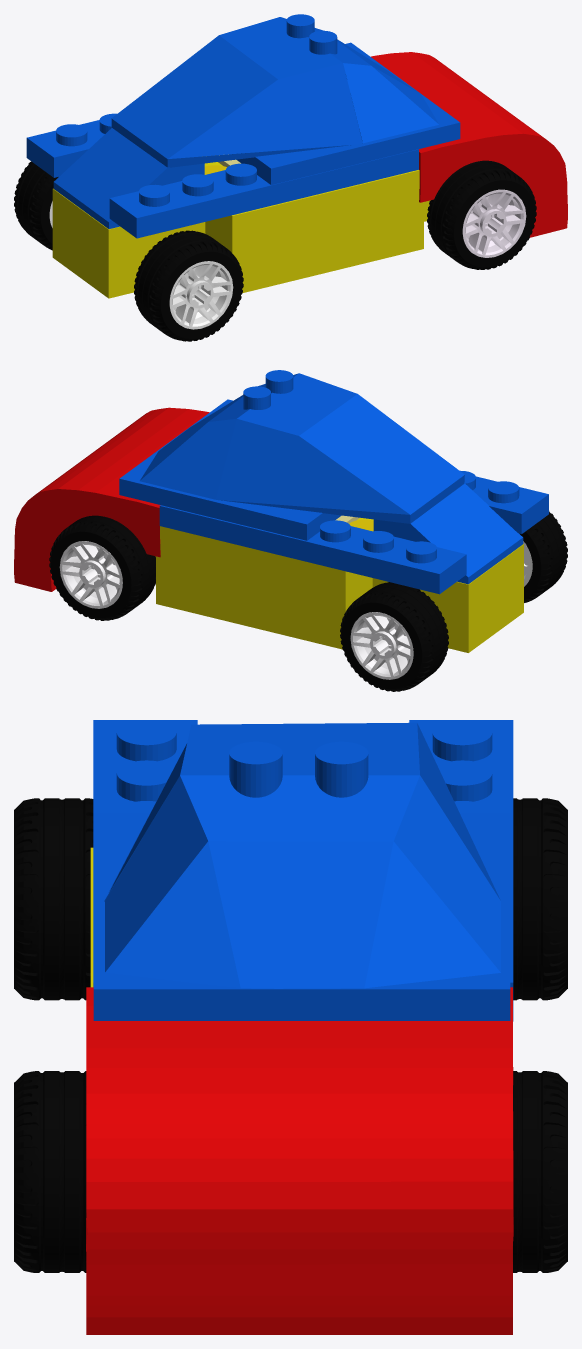
Rendered from Car.fbx.
The picture shows the model from 3 angles, top to bottom: view 1: azimuth 30°, elevation 25°; view 2: azimuth 150°, elevation 25°; view 3: azimuth 270°, elevation 25°; orthographic projection. The views are drawn at different scales.
Parts seen in each view (by area): view 1: Cylinder.002, Cube, Cube.002, Cylinder.004, Part_11208.001, Part_11208.003, Cube.003, Cylinder.003, Part_11208.002; view 2: Cylinder.002, Cube, Cube.002, Cylinder.003, Part_11208.002, Part_11208.74, Cube.003, Part_11208.001, Cylinder.004; view 3: Cube.002, Cylinder.002, Part_11208.001, Part_11208.003, Part_11208.002, Part_11208.74, Cylinder.003, Cylinder.004.
Part boxes in pixels (bbox=[...]): Cylinder.002: bbox=[111, 14, 460, 184]; Cube: bbox=[52, 162, 430, 298]; Cube.002: bbox=[371, 52, 567, 237]; Cylinder.004: bbox=[109, 149, 418, 238]; Part_11208.001: bbox=[134, 230, 243, 341]; Part_11208.003: bbox=[427, 160, 536, 269]; Cube.003: bbox=[53, 128, 204, 228]; Cylinder.003: bbox=[26, 113, 116, 177]; Part_11208.002: bbox=[14, 161, 58, 250]; Cylinder.002: bbox=[119, 370, 464, 540]; Cube: bbox=[155, 517, 523, 652]; Cube.002: bbox=[14, 407, 209, 591]; Cylinder.003: bbox=[159, 505, 466, 594]; Part_11208.002: bbox=[340, 582, 448, 691]; Part_11208.74: bbox=[49, 515, 155, 620]; Cube.003: bbox=[373, 483, 523, 584]; Part_11208.001: bbox=[519, 511, 567, 602]; Cylinder.004: bbox=[460, 470, 548, 533]; Cube.002: bbox=[86, 987, 513, 1334]; Cylinder.002: bbox=[93, 722, 510, 1020]; Part_11208.001: bbox=[14, 798, 93, 1000]; Part_11208.003: bbox=[14, 1071, 86, 1272]; Part_11208.002: bbox=[513, 798, 567, 1000]; Part_11208.74: bbox=[513, 1071, 567, 1272]; Cylinder.003: bbox=[409, 720, 513, 1021]; Cylinder.004: bbox=[93, 720, 197, 986].
Size of the model in its own units: 603 by 287 by 351.
